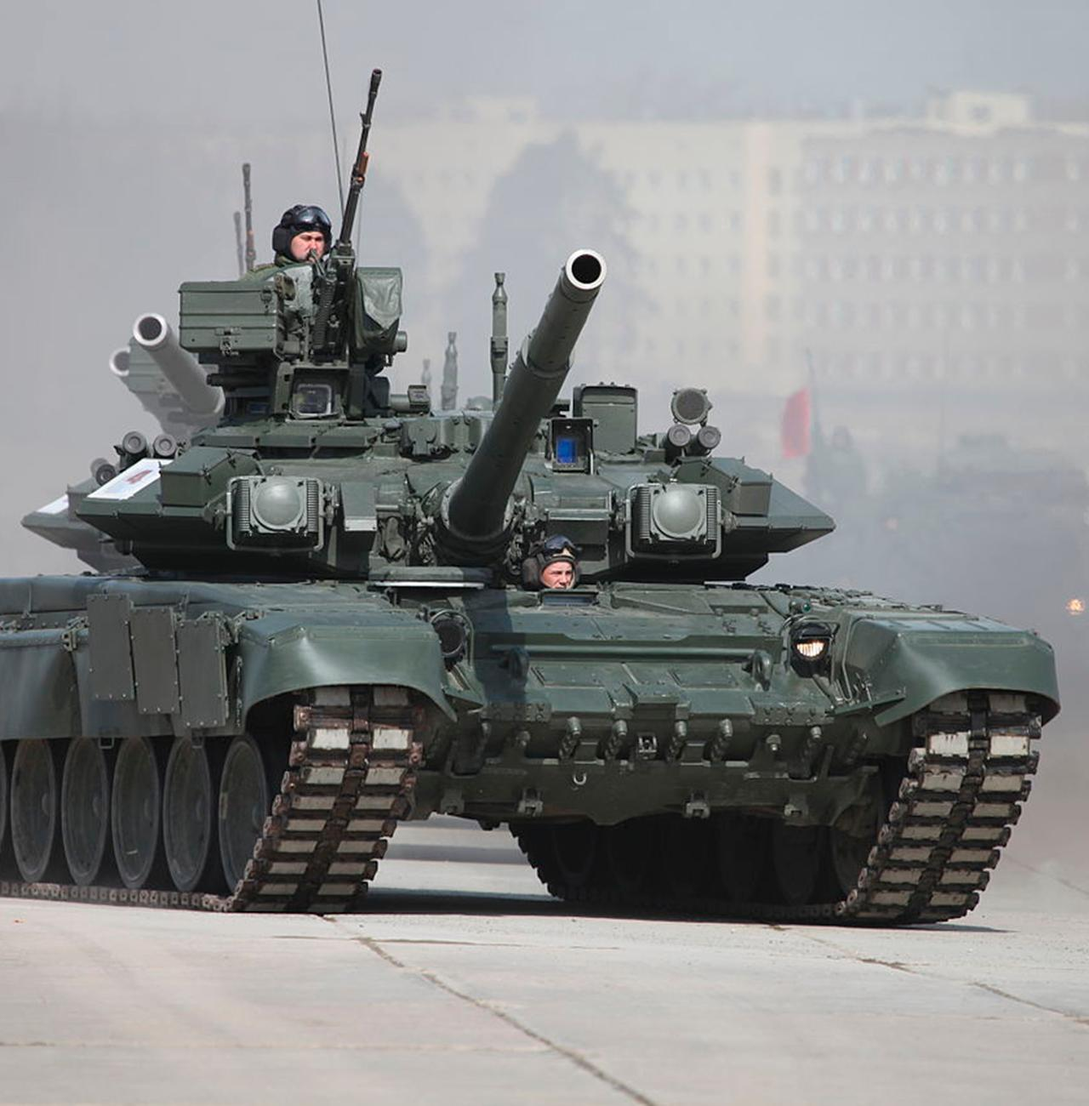tank: (37, 214, 1065, 950)
